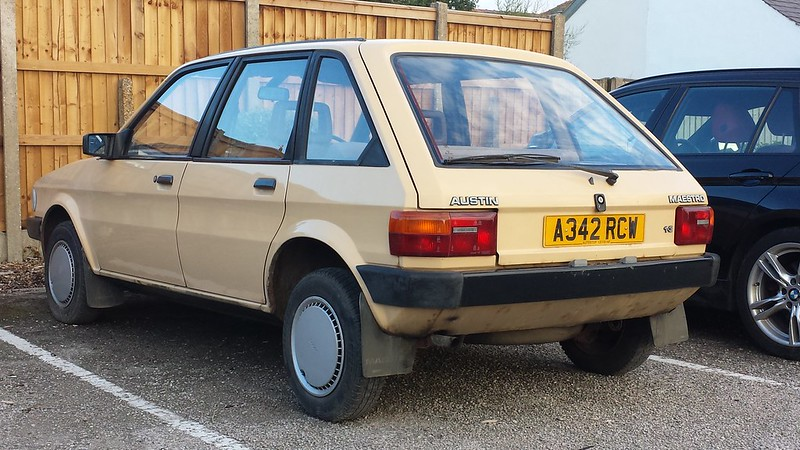number_plate: (531, 207, 663, 253)
